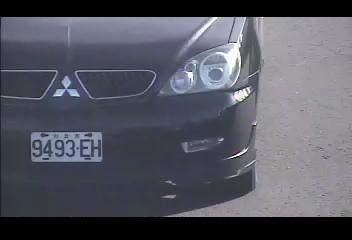plate: (28, 130, 105, 164)
